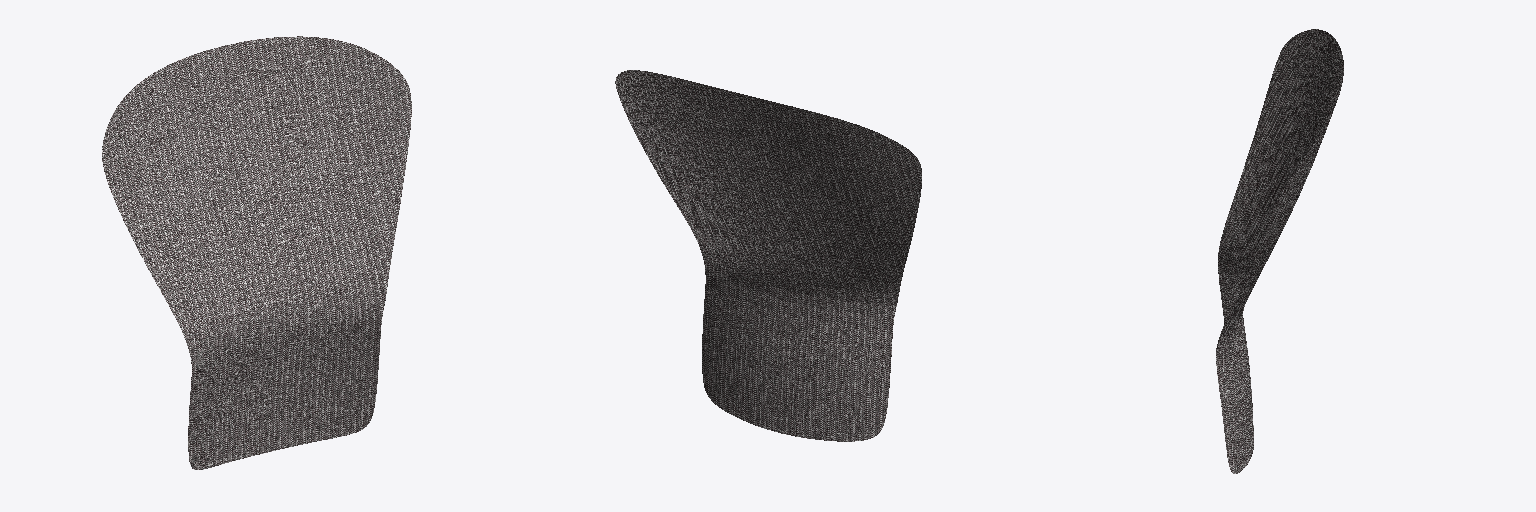
The picture shows the model from 3 angles: view 1: azimuth 30°, elevation 25°; view 2: azimuth 150°, elevation 25°; view 3: azimuth 270°, elevation 25°; orthographic projection.
Parts seen in each view (by area): view 1: mesh59/mesh59-geometry#mesh59-geometry; view 2: mesh59/mesh59-geometry#mesh59-geometry; view 3: mesh59/mesh59-geometry#mesh59-geometry.
Boxes of the visible parts, x1,y1,x2,y2 form: mesh59/mesh59-geometry#mesh59-geometry: [102, 36, 411, 469]; mesh59/mesh59-geometry#mesh59-geometry: [615, 70, 921, 441]; mesh59/mesh59-geometry#mesh59-geometry: [1216, 29, 1343, 473].
Bounding box in the file's own units: 0.8297 × 0.969 × 0.3008.
1 materials, 1 textured.